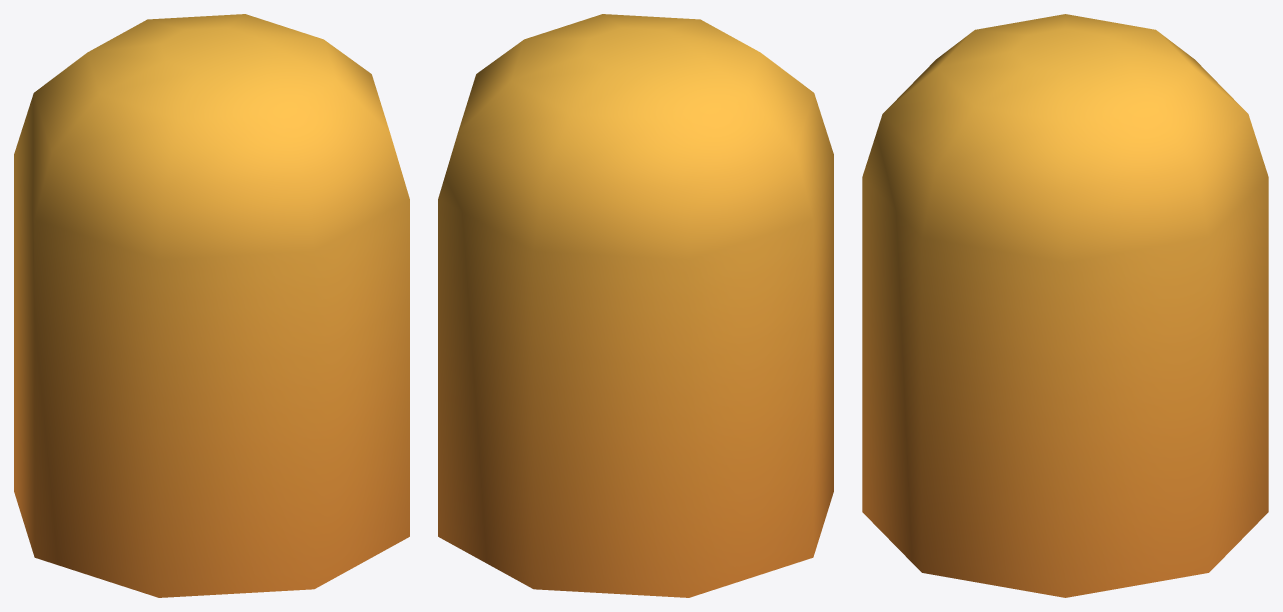
The model's file is fence colum.fbx.
The picture shows the model from 3 angles, left to right: view 1: azimuth 30°, elevation 25°; view 2: azimuth 150°, elevation 25°; view 3: azimuth 270°, elevation 25°; orthographic projection.
Visible parts, largest first — view 1: fence colum; view 2: fence colum; view 3: fence colum.
Boxes of the visible parts, x1,y1,x2,y2 form: fence colum: (14,14,409,597); fence colum: (438,14,833,597); fence colum: (862,14,1268,597).
Bounding box in the file's own units: 137 × 171 × 137.
